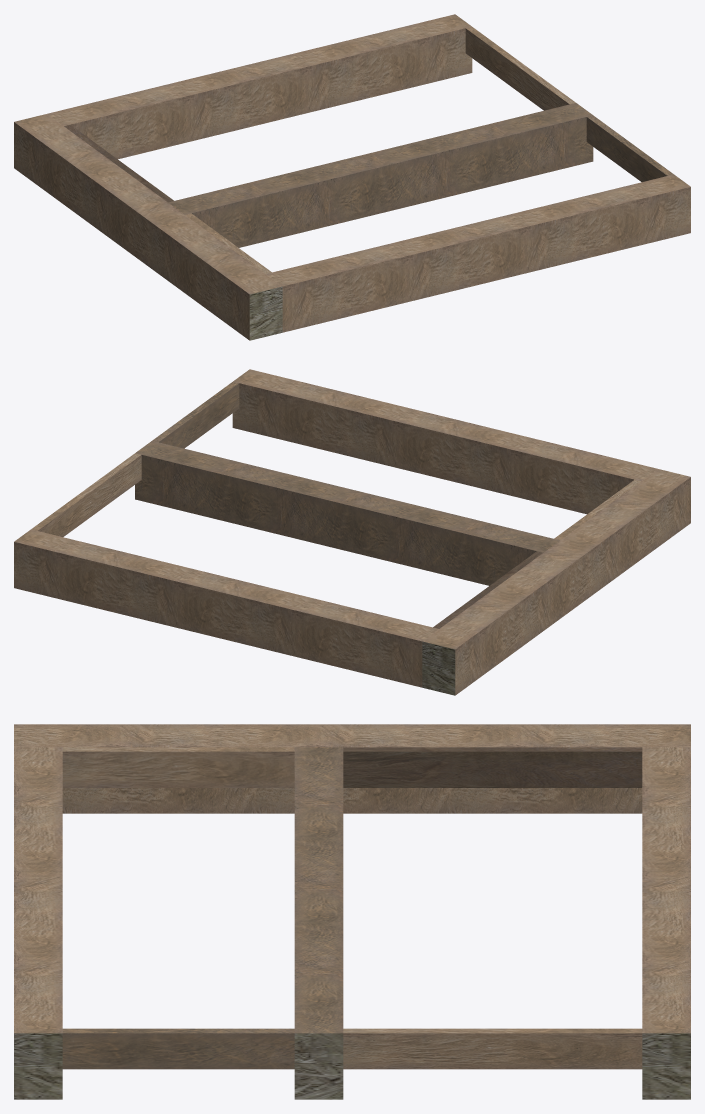
The model's file is RafterCenterD.fbx.
The picture shows the model from 3 angles, top to bottom: view 1: azimuth 30°, elevation 25°; view 2: azimuth 150°, elevation 25°; view 3: azimuth 270°, elevation 25°; orthographic projection. The views are drawn at different scales.
Parts seen in each view (by area): view 1: RafterCenterD; view 2: RafterCenterD; view 3: RafterCenterD.
Part boxes in pixels (<box>): RafterCenterD: <box>14,14,690,340</box>; RafterCenterD: <box>14,369,690,695</box>; RafterCenterD: <box>14,724,690,1099</box>.
Size of the model in its own units: 404 by 40.53 by 374.
